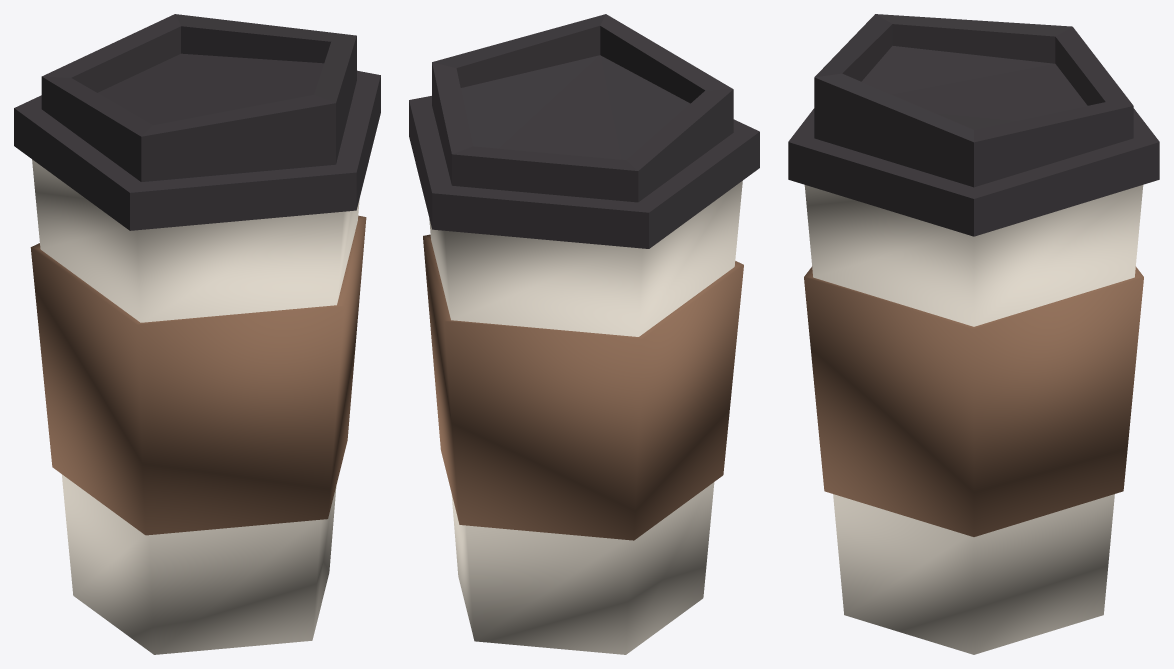
Rendered from Cup-Coffee_01.fbx.
The picture shows the model from 3 angles, left to right: view 1: azimuth 30°, elevation 25°; view 2: azimuth 150°, elevation 25°; view 3: azimuth 270°, elevation 25°; orthographic projection. The views are drawn at different scales.
Visible parts, largest first — view 1: Coffee_Cup; view 2: Coffee_Cup; view 3: Coffee_Cup.
Part boxes in pixels (box(x1,y1,x2,y2)): Coffee_Cup: box(14, 14, 380, 654); Coffee_Cup: box(409, 14, 759, 654); Coffee_Cup: box(788, 14, 1159, 654).
Size of the model in its own units: 0.0919 by 0.1555 by 0.0966.
